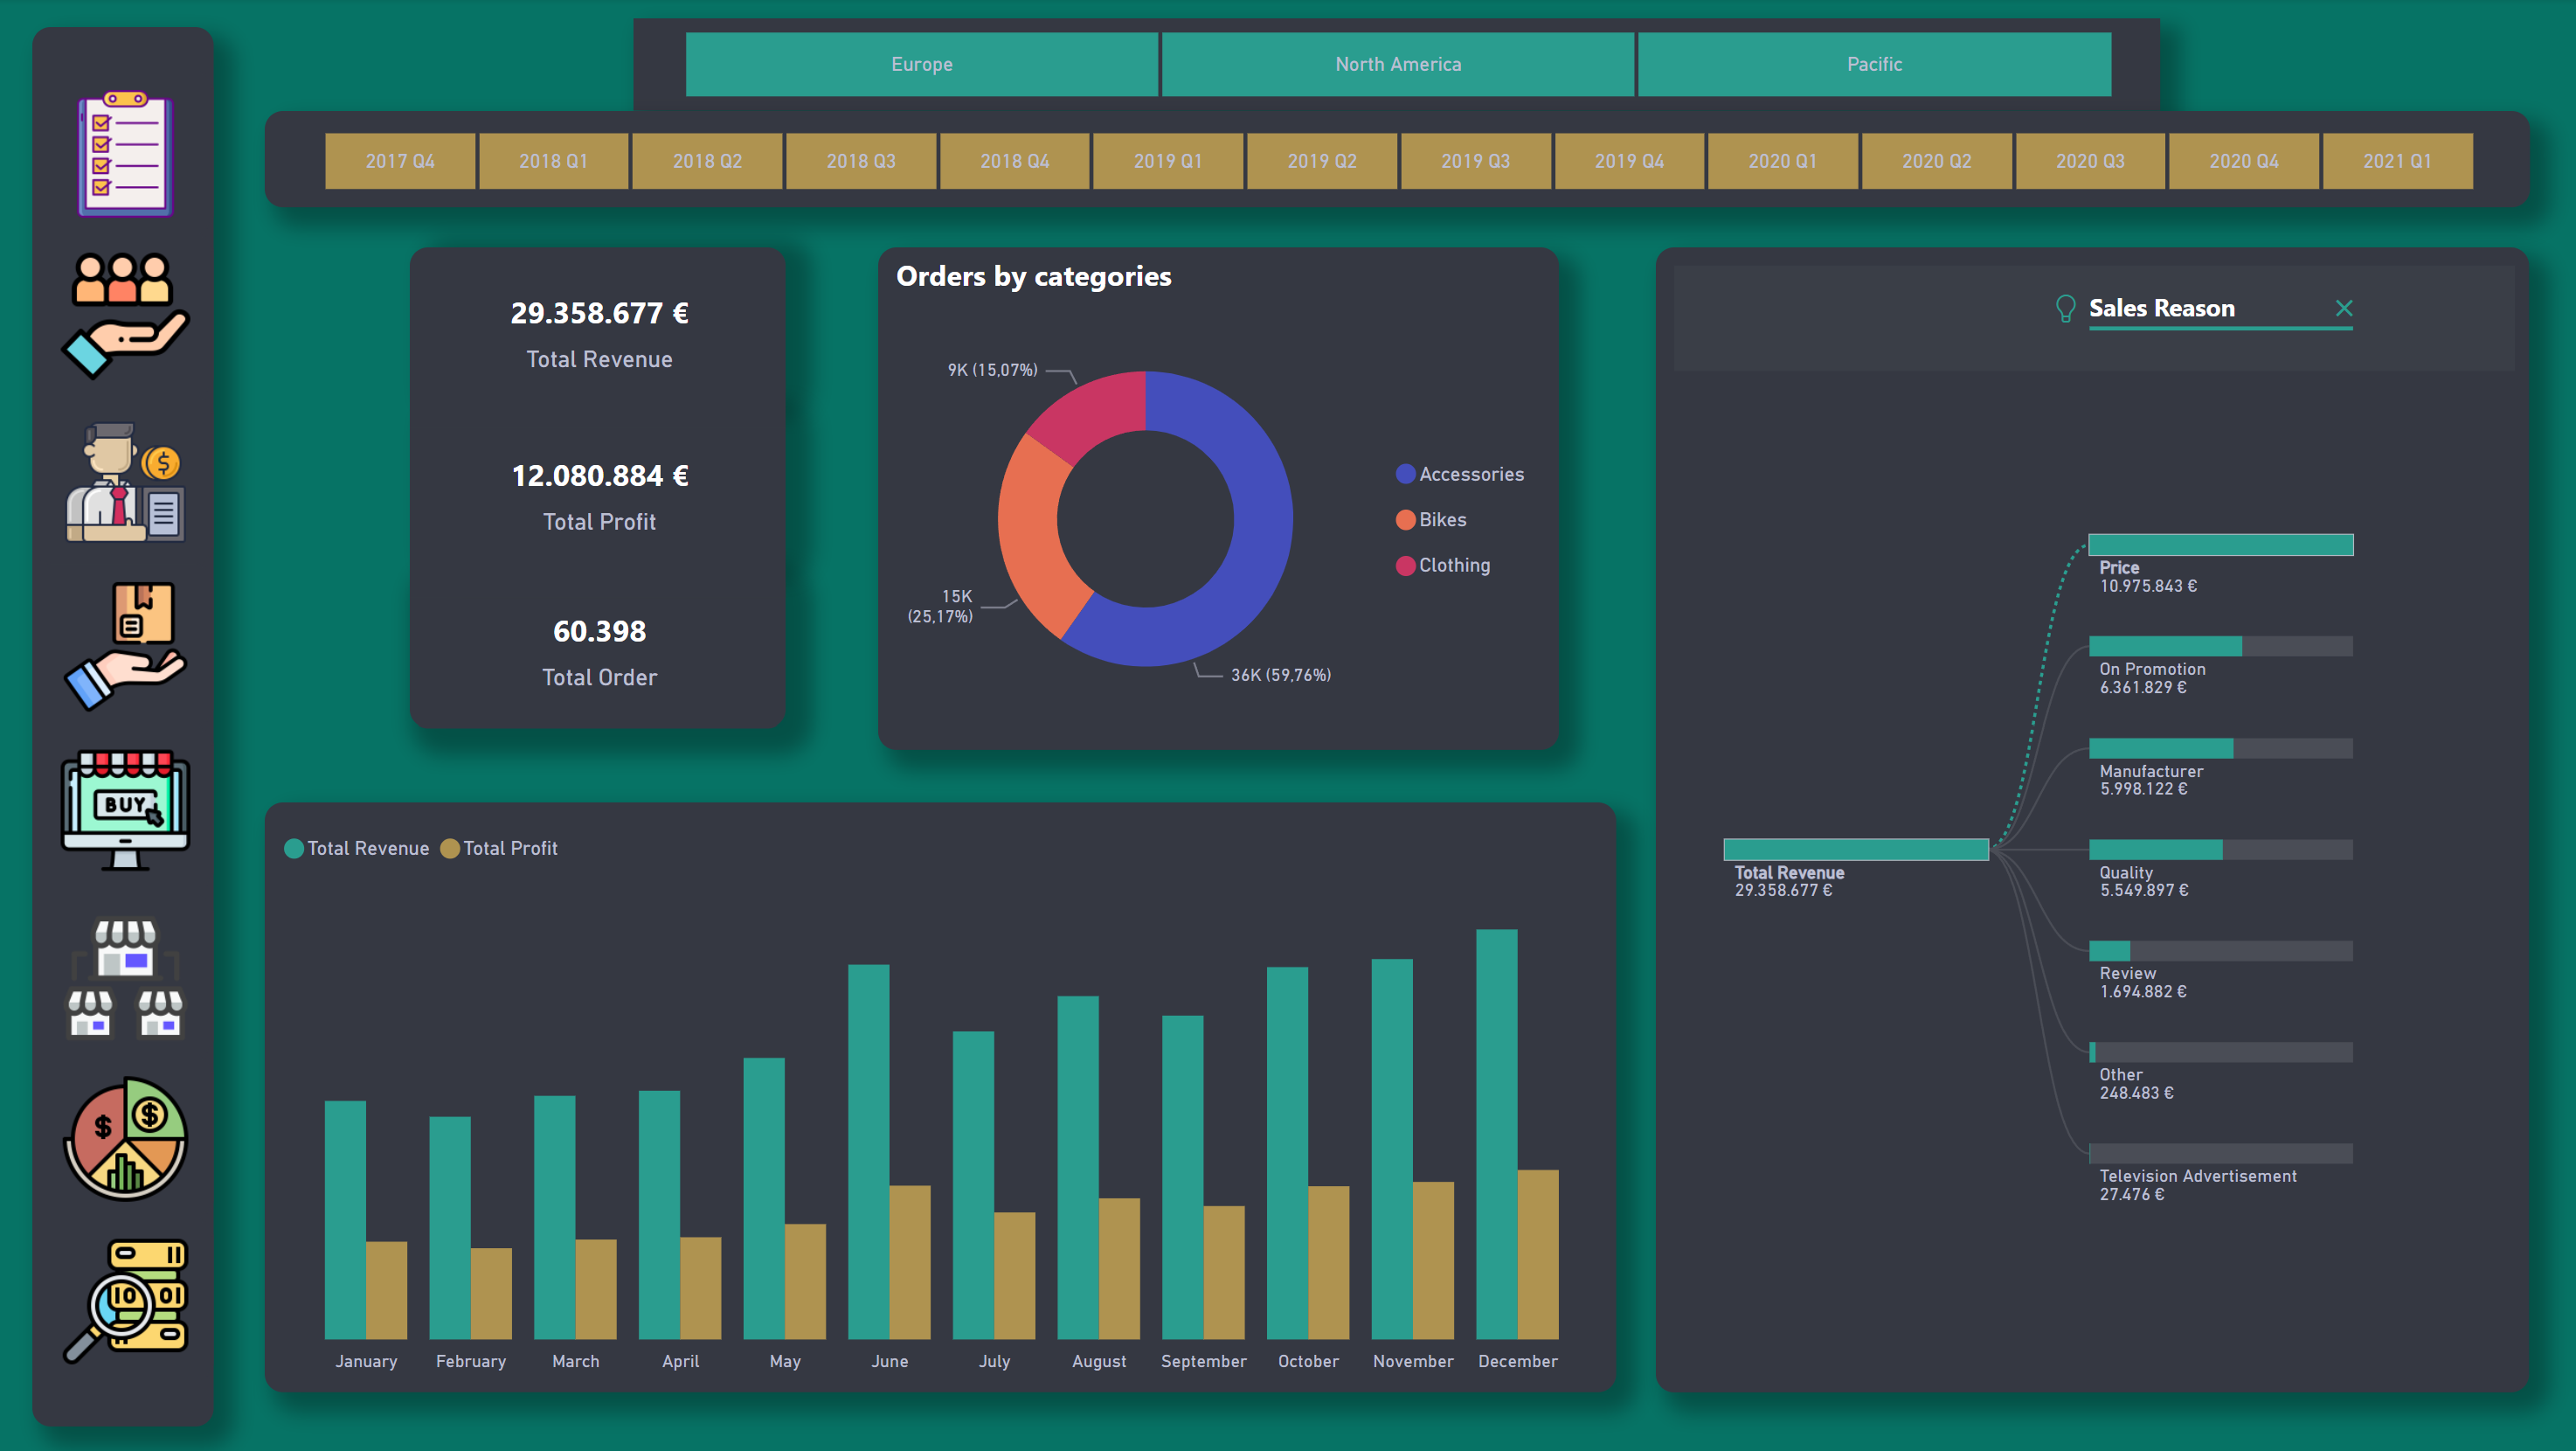

This screenshot's page, from the dashboard's own definition file:
{"tool":"powerbi","page":{"name":"InternetStore","canvas":[1280,720],"ordinal":4},"visuals":[{"type":"slicer","fields":{"Values":["DimSalesTerritory.SalesTerritoryGroup"]},"box":[316,10.5,753.3,45.3],"z":0},{"type":"funnel","title":"Total sales by subcategories","fields":{"Category":["DimProductSubcategory.Subcategory"],"Y":["Sum(FactSales.SalesAmount)"]},"box":[820.7,123.3,430.9,564.7],"z":1000},{"type":"donutChart","title":"Ordes by categories","fields":{"Category":["DimProductCategory.Category"],"Y":["FactSales.Total Order"]},"box":[436.1,123.3,336.1,247.6],"z":2000},{"type":"slicer","fields":{"Values":["DimDate.QuarterYear"]},"box":[133.8,55.8,1117.8,47.4],"z":3000},{"type":"lineClusteredColumnComboChart","fields":{"Y2":["FactSales.Total Order"],"Y":["FactSales.Total Profit"],"Category":["DimDate.Start of Month.Variation.Date Hierarchy.Month"]},"box":[133.8,397.2,666.9,290.8],"z":4000},{"type":"card","fields":{"Values":["FactSales.Total Order"]},"box":[205.4,280.2,185.4,80.1],"z":5000},{"type":"card","fields":{"Values":["FactSales.Total Sales"]},"box":[205.4,123.3,185.4,80.1],"z":6000},{"type":"card","fields":{"Values":["FactSales.Total Profit"]},"box":[205.4,203.3,185.4,80.1],"z":7000},{"type":"shape","box":[19.2,14.9,89.6,690.1],"z":8000},{"type":"actionButton","title":"Employee","box":[30.9,67.2,65.1,69.3],"z":9000},{"type":"actionButton","box":[30.9,152.5,65.1,75.7],"z":10000},{"type":"actionButton","box":[30.9,253.9,65.1,75.7],"z":11000},{"type":"actionButton","box":[25.6,343.5,76.8,77.9],"z":12000},{"type":"actionButton","box":[25.6,452.3,76.8,72.5],"z":13000},{"type":"actionButton","box":[30.9,552.5,66.1,71.5],"z":14000}]}

Visuals, with their boxes in screenshot pixels (x1, y1, x2, y2), scaled from the page's 1280x720 canvas onto the 2576x1451 screenshot:
slicer - DimSalesTerritory.SalesTerritoryGroup: detection(636, 21, 2152, 113)
"Total sales by subcategories" funnel: detection(1652, 248, 2519, 1386)
"Ordes by categories" donutChart: detection(877, 248, 1554, 747)
slicer - DimDate.QuarterYear: detection(269, 113, 2519, 208)
lineClusteredColumnComboChart - FactSales.Total Order x FactSales.Total Profit: detection(269, 801, 1611, 1386)
card - FactSales.Total Order: detection(413, 565, 786, 726)
card - FactSales.Total Sales: detection(413, 248, 786, 410)
card - FactSales.Total Profit: detection(413, 410, 786, 571)
shape: detection(38, 30, 219, 1420)
"Employee" actionButton: detection(62, 135, 193, 275)
actionButton: detection(62, 308, 193, 460)
actionButton: detection(62, 511, 193, 664)
actionButton: detection(52, 692, 206, 850)
actionButton: detection(52, 912, 206, 1058)
actionButton: detection(62, 1114, 195, 1258)
